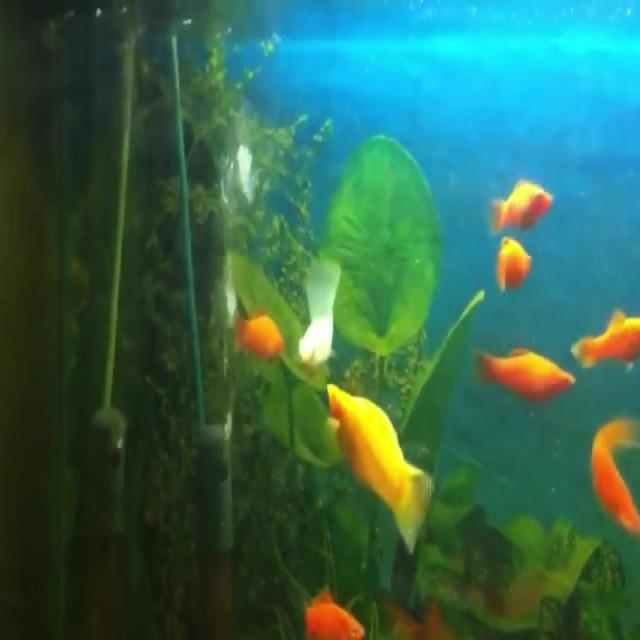PlatyFish: (316, 381, 439, 562), (468, 332, 586, 412), (479, 168, 562, 237), (224, 292, 296, 368)
